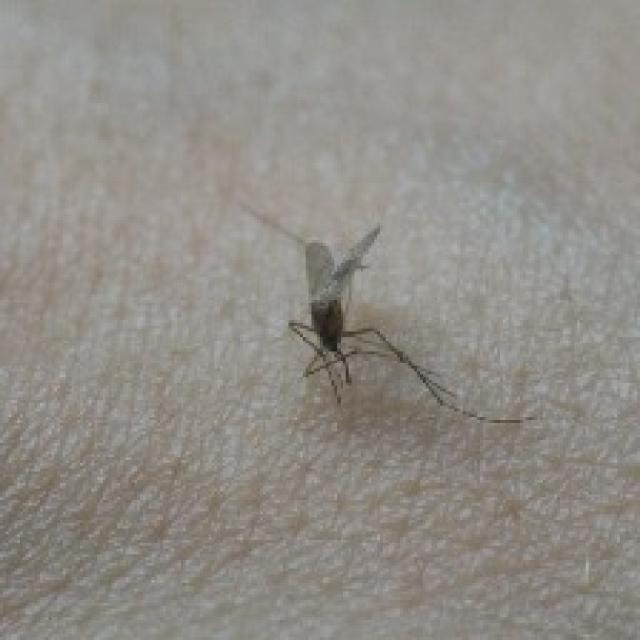culex: (237, 197, 532, 426)
